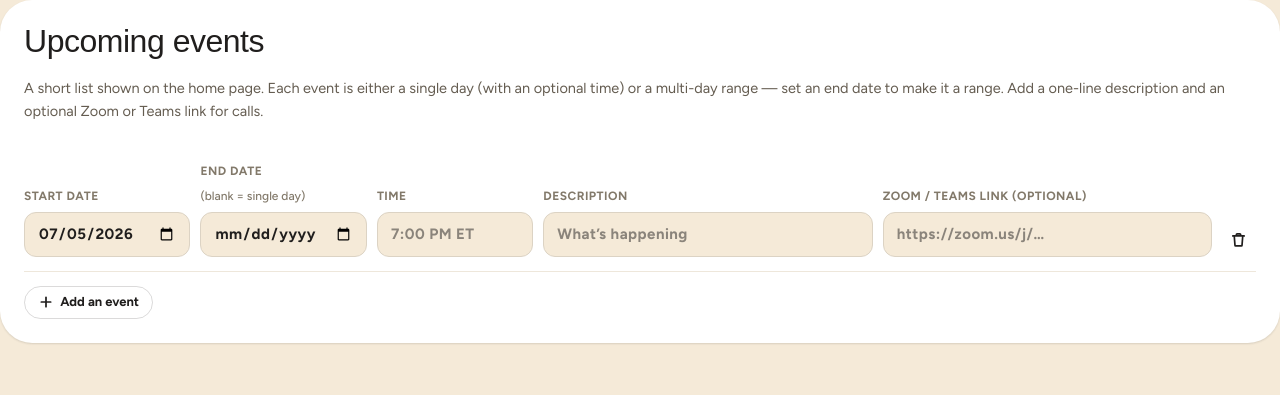
Test case: CAP-008 · An event cannot end before it starts (UI shows the refusal) › shows "End date must be on or after the start date."
The width and height of the screenshot is (1280, 395).
Type "2026-07-01" into the date field labelled "End date (blank = single day)" at [284, 234], box [200, 212, 367, 257]
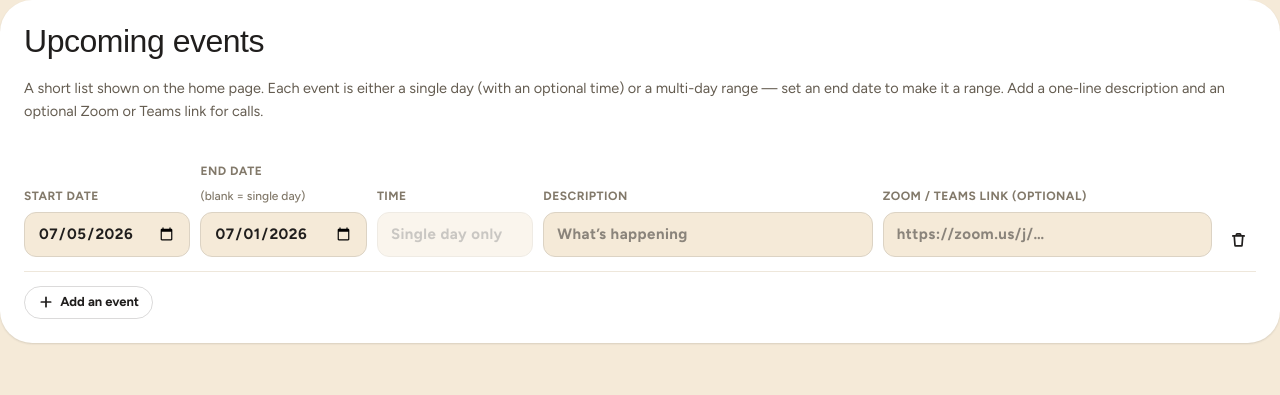
Leave the date field labelled "End date (blank = single day)", box [200, 212, 367, 257]
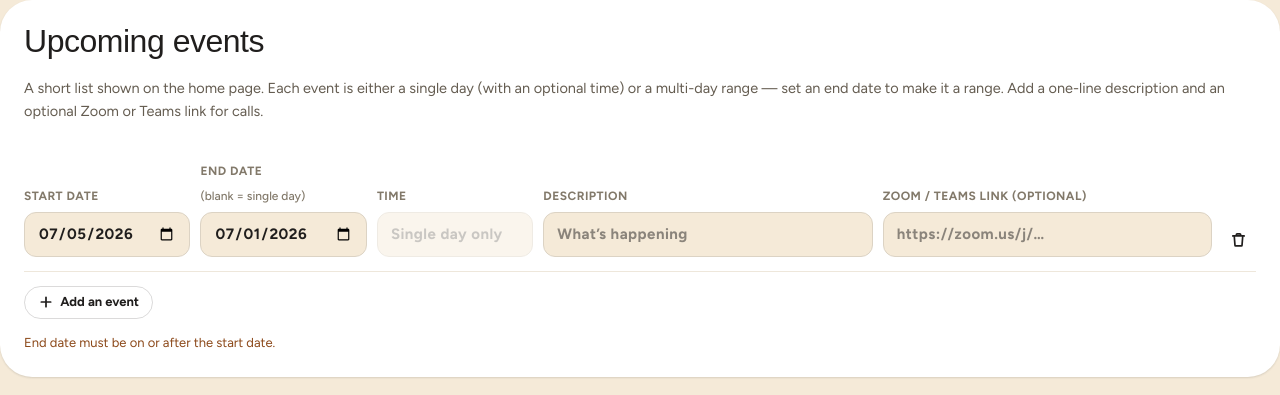
Check: the text "End date must be on or after the start date." is shown, box [24, 335, 275, 350]
